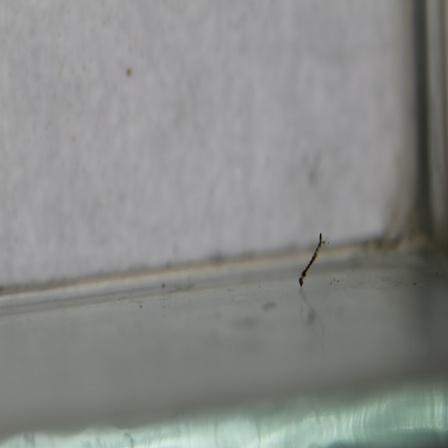Jentik-Nyamuk: (291, 229, 331, 289)
